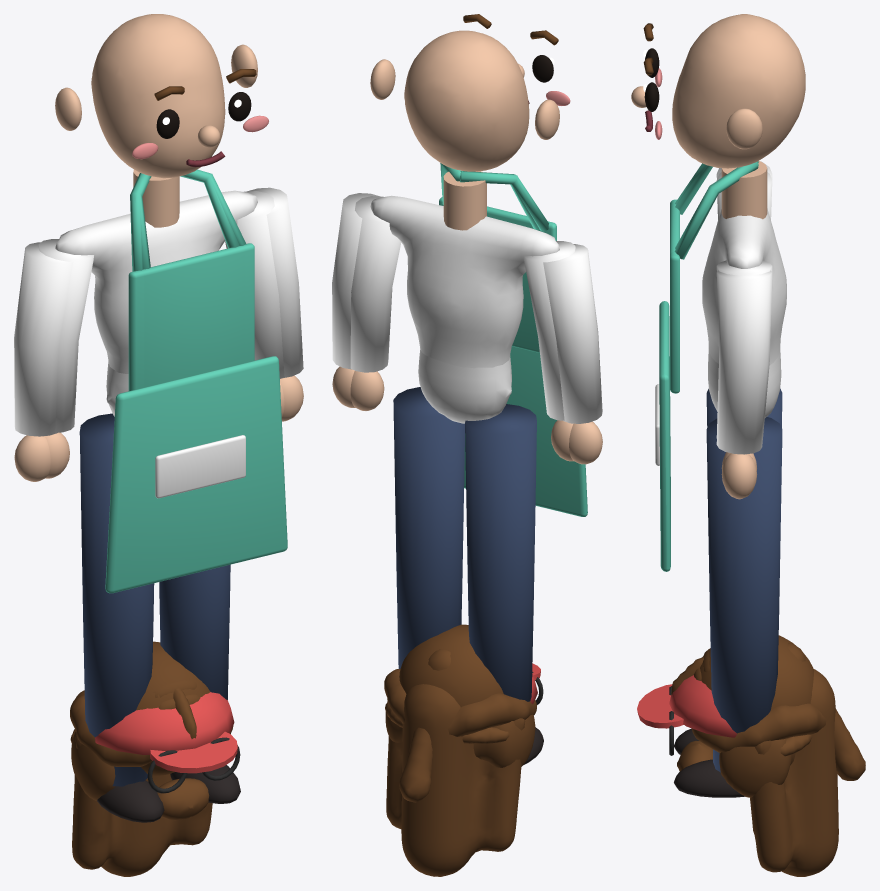
Rendered from player.glb.
3 renders of one model, left to right at view 1: azimuth 30°, elevation 25°; view 2: azimuth 150°, elevation 25°; view 3: azimuth 270°, elevation 25°, orthographic. The views are drawn at different scales.
Parts seen in each view (by area): view 1: ApronSkirt.001, Face.001, PantsL.001, ApronBib, Torso.001, SleeveL.001, PantsR.001, PHairMesh_long, Cap, SleeveR, SleeveR.001, SleeveL (+21 smaller); view 2: PantsL.001, Torso.001, PantsR.001, PHairMesh_long, Face.001, SleeveL.001, SleeveR, ApronSkirt.001, Torso, PHairMesh_afro, SleeveR.001, SleeveL (+14 smaller); view 3: PantsR.001, Face.001, PHairMesh_long, SleeveR.001, Torso.001, ApronSkirt.001, PHairMesh_curly, PHairMesh_bob, PHairMesh_afro, Cap, Neck.001, ApronBib.001 (+11 smaller).
Part boxes in pixels (left/top/right/bottom): ApronSkirt.001: left=105, top=356, right=287, bottom=593; Face.001: left=91, top=14, right=225, bottom=178; PantsL.001: left=79, top=413, right=154, bottom=786; ApronBib: left=142, top=246, right=245, bottom=387; Torso.001: left=55, top=190, right=257, bottom=373; SleeveL.001: left=14, top=242, right=73, bottom=436; PantsR.001: left=159, top=564, right=230, bottom=699; PHairMesh_long: left=72, top=733, right=212, bottom=876; Cap: left=95, top=692, right=234, bottom=754; SleeveR: left=225, top=191, right=284, bottom=378; SleeveR.001: left=247, top=187, right=303, bottom=378; SleeveL: left=38, top=239, right=93, bottom=432; PantsL.001: left=465, top=404, right=536, bottom=701; Torso.001: left=370, top=195, right=559, bottom=368; PantsR.001: left=393, top=387, right=464, bottom=668; PHairMesh_long: left=386, top=684, right=525, bottom=876; Face.001: left=404, top=30, right=529, bottom=171; SleeveL.001: left=543, top=244, right=602, bottom=423; SleeveR: left=350, top=196, right=401, bottom=372; ApronSkirt.001: left=464, top=346, right=587, bottom=516; Torso: left=418, top=349, right=511, bottom=423; PHairMesh_afro: left=399, top=624, right=503, bottom=707; SleeveR.001: left=332, top=193, right=380, bottom=369; SleeveL: left=523, top=241, right=575, bottom=420; PantsR.001: left=706, top=417, right=782, bottom=772; Face.001: left=672, top=14, right=805, bottom=168; PHairMesh_long: left=750, top=669, right=838, bottom=876; SleeveR.001: left=716, top=270, right=772, bottom=454; Torso.001: left=702, top=208, right=786, bottom=364; ApronSkirt.001: left=659, top=301, right=670, bottom=571; PHairMesh_curly: left=691, top=703, right=826, bottom=752; PHairMesh_bob: left=719, top=738, right=795, bottom=797; PHairMesh_afro: left=700, top=635, right=813, bottom=710; Cap: left=669, top=675, right=736, bottom=737; Neck.001: left=721, top=161, right=767, bottom=219; ApronBib.001: left=670, top=199, right=679, bottom=393.
Size of the model in its own units: 0.6337 by 1.86 by 0.4637.
